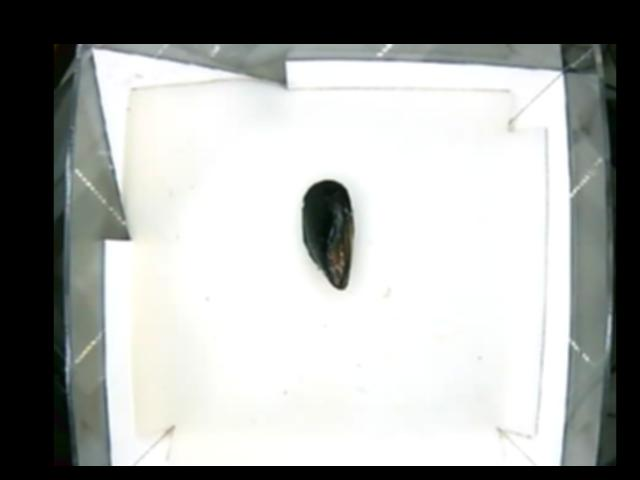Shell: (300, 180, 352, 291)
